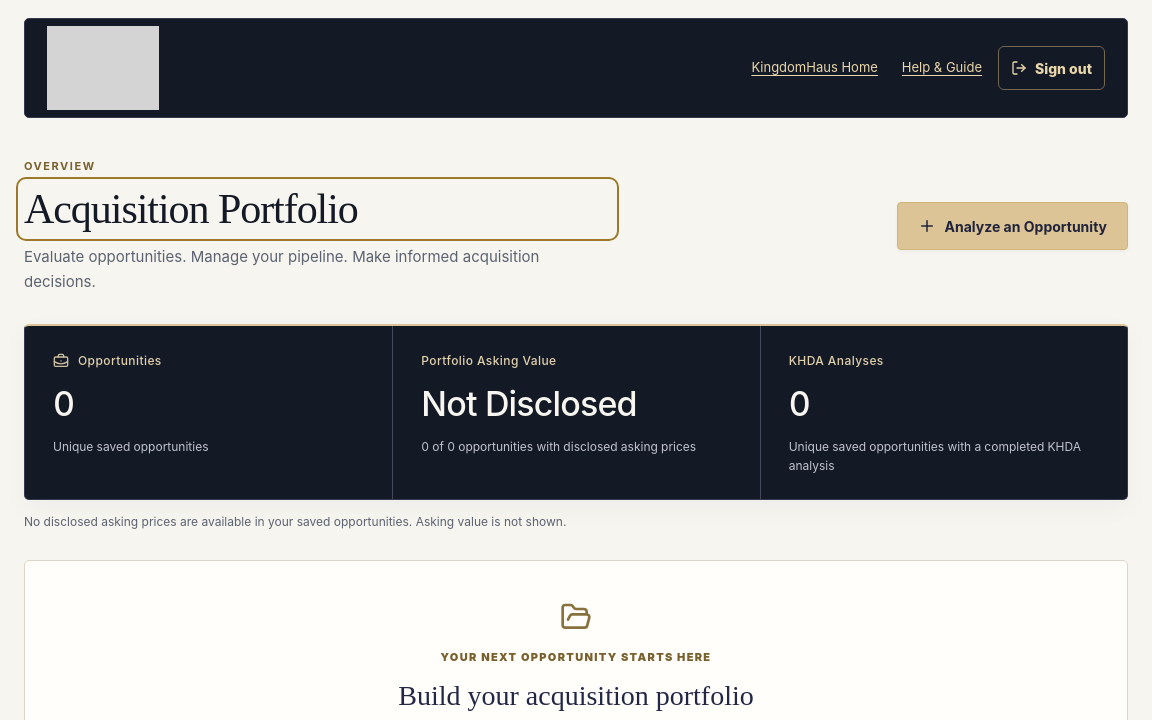
Test: private workspace integration using synthetic SDK accounts and records › aborts scanning on account switch and discards the former account's delayed HTTP result
Click the button "Analyze an Opportunity": (1012, 226) [897, 202, 1128, 250]
(page scrolled)
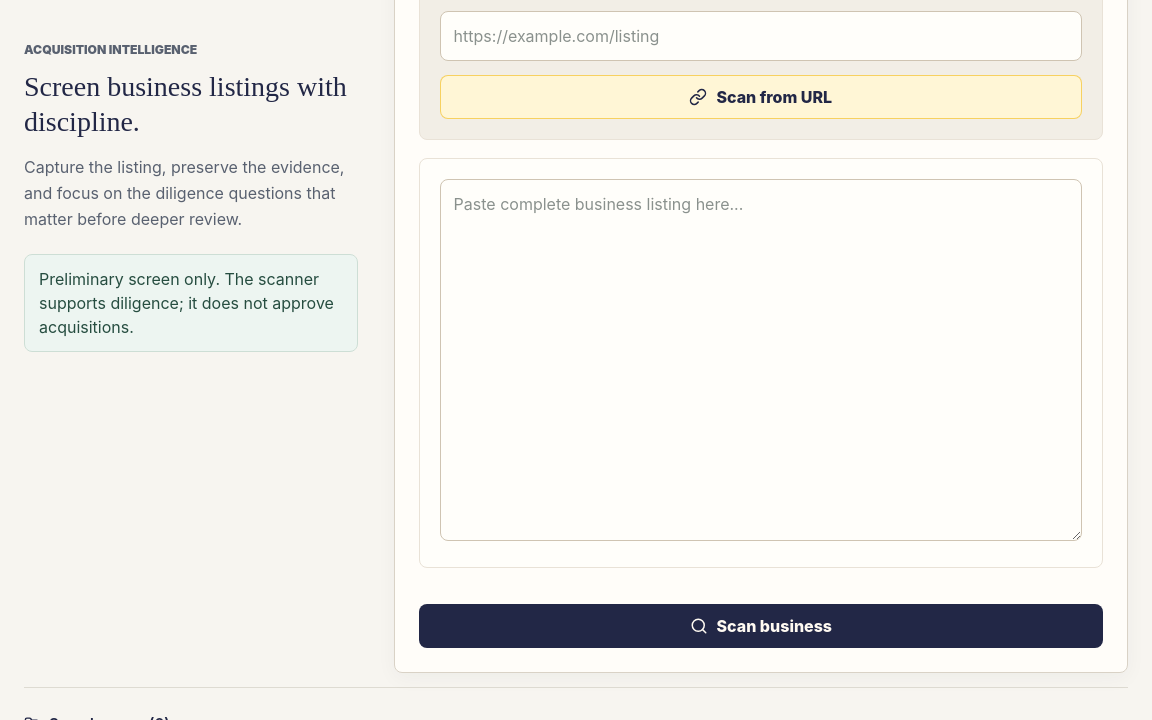
Now the button "Scan business" is shown, box [419, 604, 1103, 648]
In the text box named "Listing text": (761, 360) [440, 179, 1082, 541], type "Synthetic pilot A acquisition listing with sufficient fictional information."
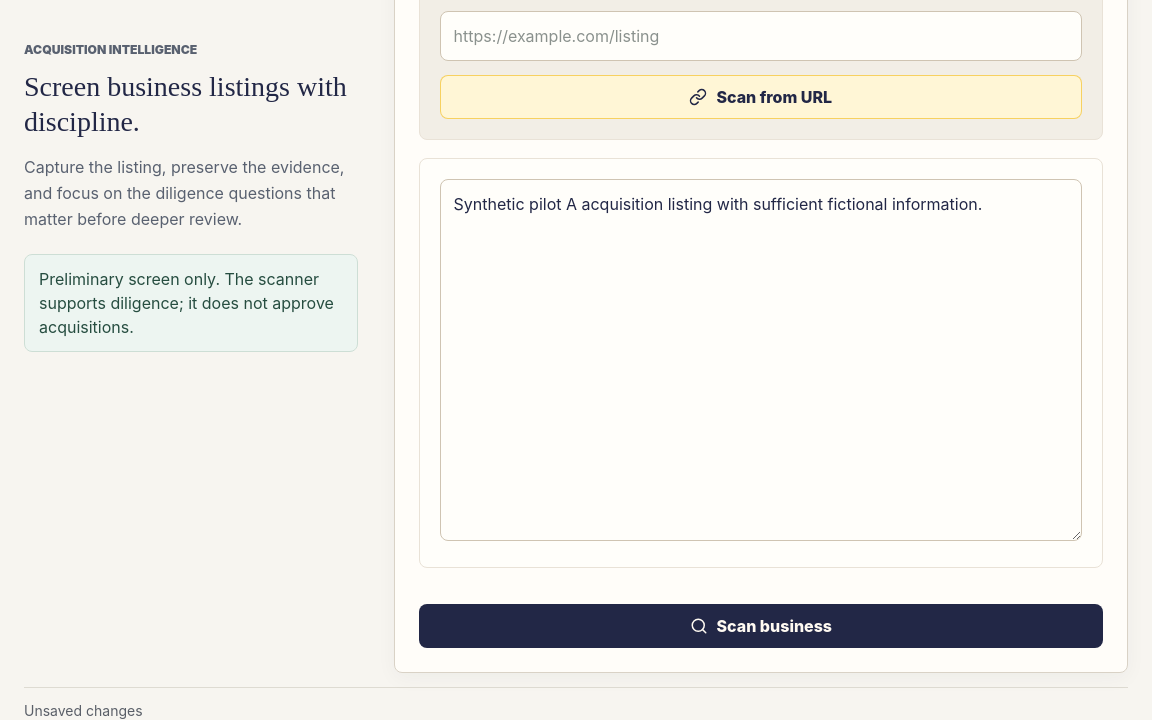
Click the button "Scan business": (761, 626) [419, 604, 1103, 648]
(page scrolled)
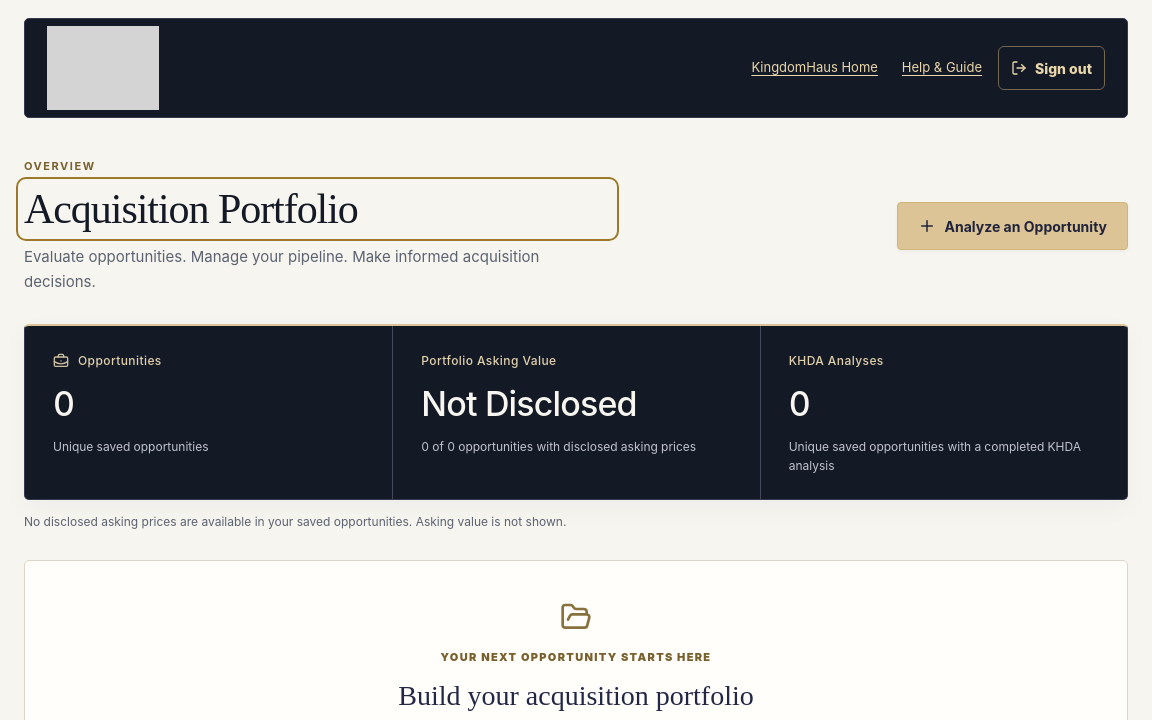
Now the heading "Build your acquisition portfolio" is shown, box [398, 675, 754, 717]
